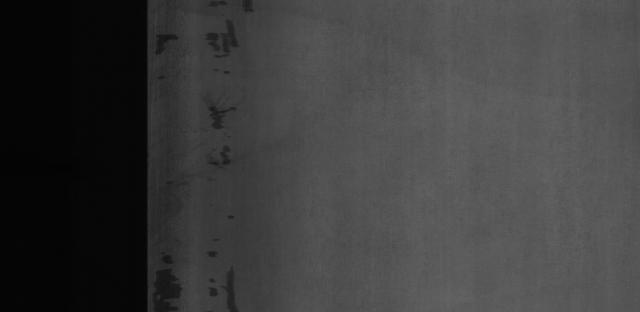oil_spot: (203, 237, 241, 311), (198, 98, 235, 170), (152, 251, 184, 310), (203, 19, 247, 60), (198, 0, 258, 14), (152, 32, 177, 60)
